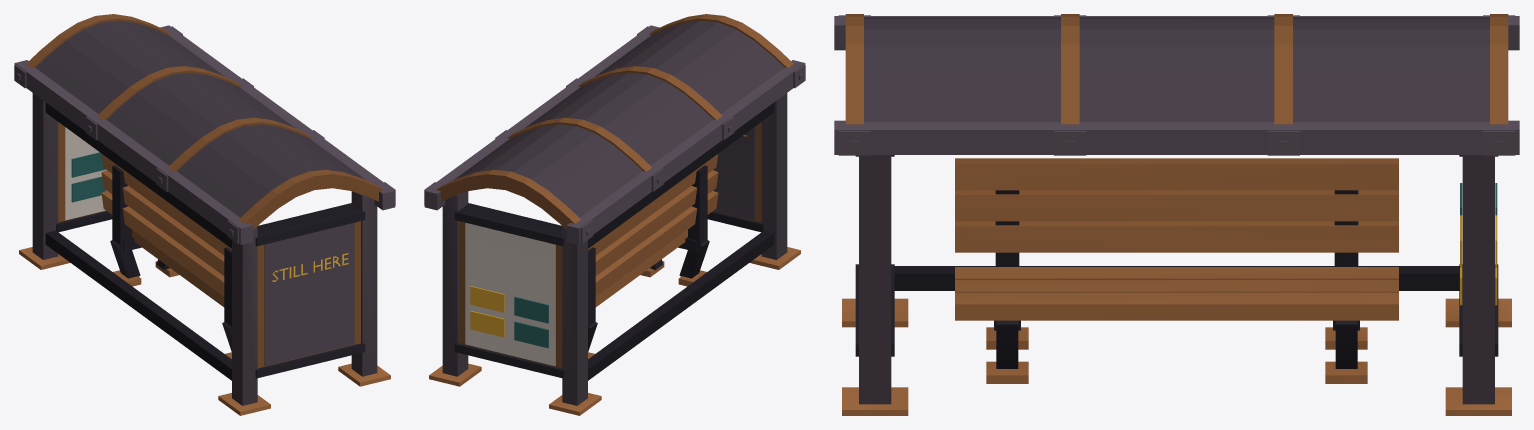
File: bld.bus-stop.lod2.glb
3 renders of one model, left to right at view 1: azimuth 30°, elevation 25°; view 2: azimuth 150°, elevation 25°; view 3: azimuth 270°, elevation 25°, orthographic. The views are drawn at different scales.
Visible parts, largest first — view 1: body, roof; view 2: body, roof; view 3: body, roof.
Part boxes in pixels (x1,y1,x2,y2): body: (19,93,390,415); roof: (14,14,395,244); body: (429,93,800,415); roof: (424,14,805,244); body: (842,155,1511,415); roof: (834,14,1519,155).
Size of the model in its own units: 2.04 by 2.68 by 4.97.
